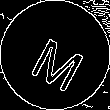M_NE: (23, 22, 87, 88)
